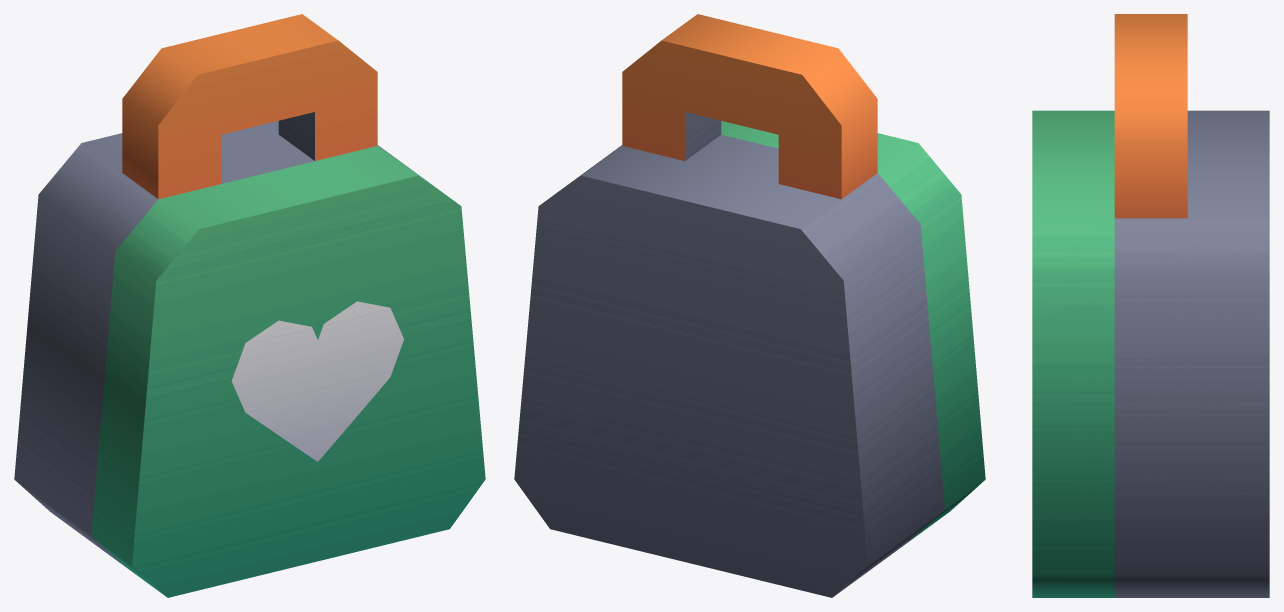
Rendered from aid-defibrillator-green.glb.
3 renders of one model, left to right at view 1: azimuth 30°, elevation 25°; view 2: azimuth 150°, elevation 25°; view 3: azimuth 270°, elevation 25°, orthographic.
Parts seen in each view (by area): view 1: aid-defibrillator-green, Group; view 2: aid-defibrillator-green; view 3: aid-defibrillator-green.
Part boxes in pixels (x1=…): aid-defibrillator-green: x1=14, y1=14, x2=485, y2=597; Group: x1=231, y1=301, x2=403, y2=461; aid-defibrillator-green: x1=514, y1=14, x2=985, y2=597; aid-defibrillator-green: x1=1032, y1=14, x2=1269, y2=597.
Size of the model in its own units: 0.2255 by 0.29 by 0.14.
Materials: 1 (1 with a texture image).
